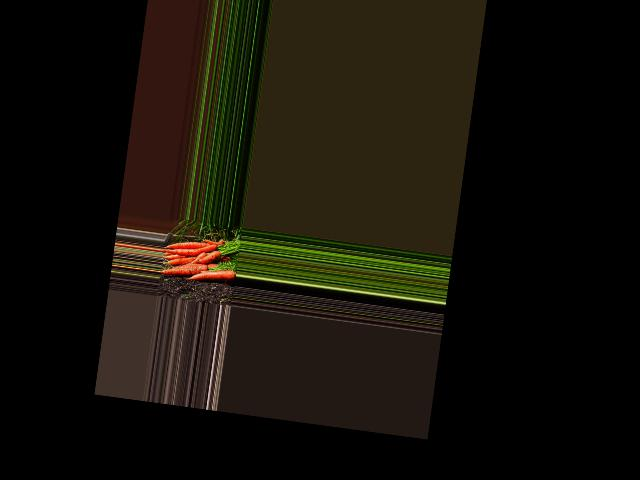carrot: (163, 238, 219, 259)
